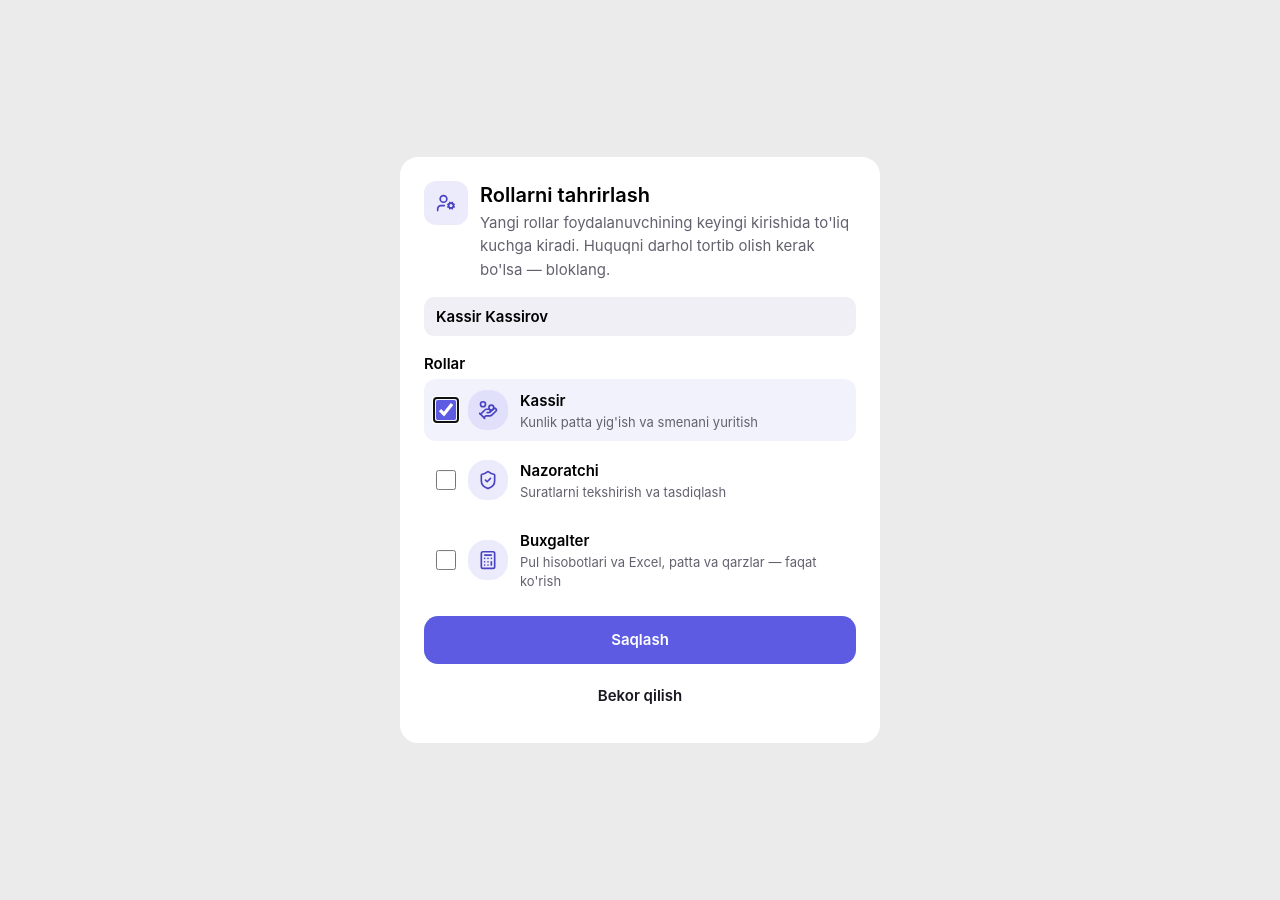
it: server rad etganda › `role_not_allowed` tarjima bilan ko'rsatiladi
Click the checkbox labelled "Nazoratchi": (446, 480) [436, 470, 456, 490]
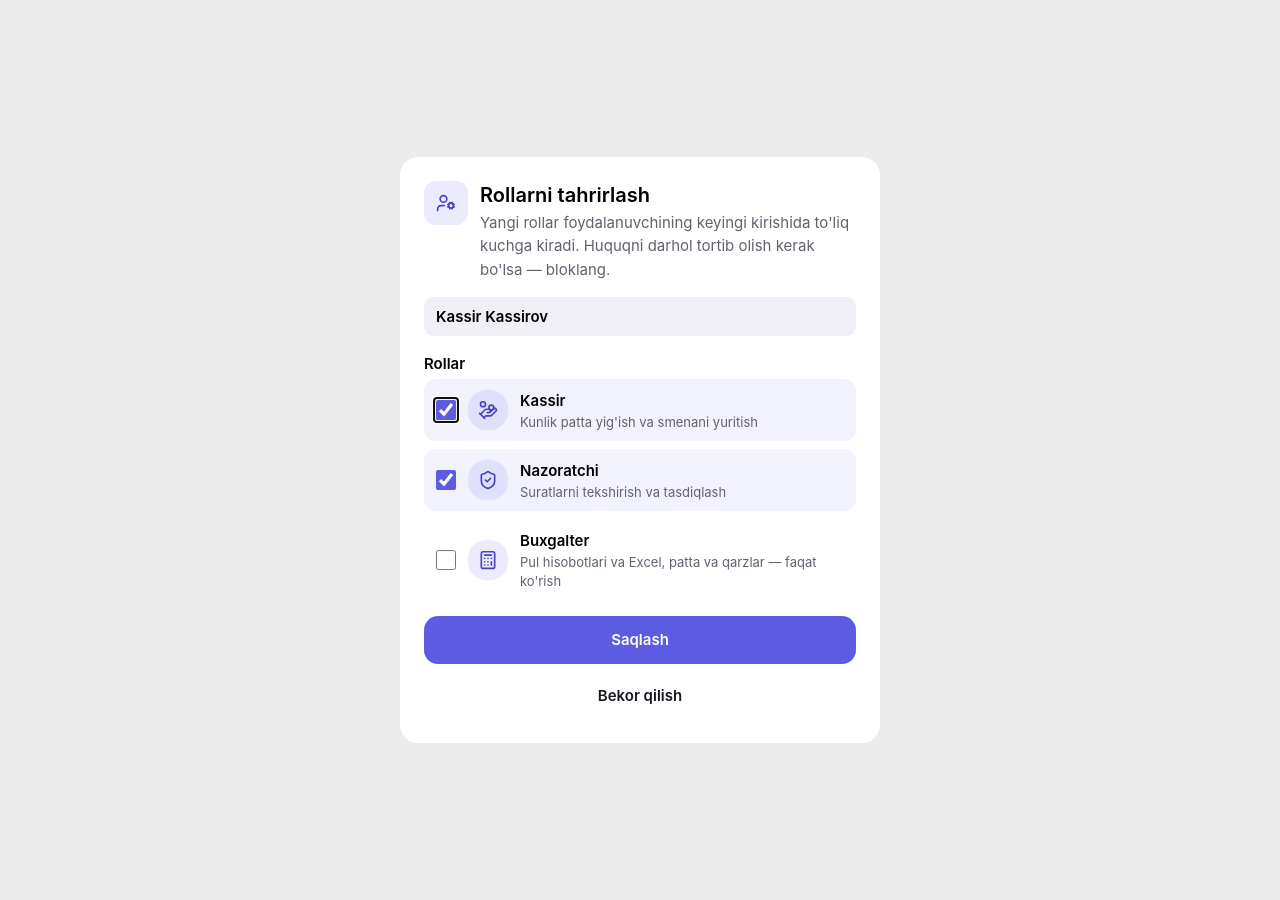
Click the button "Saqlash": (640, 640) [424, 616, 856, 664]
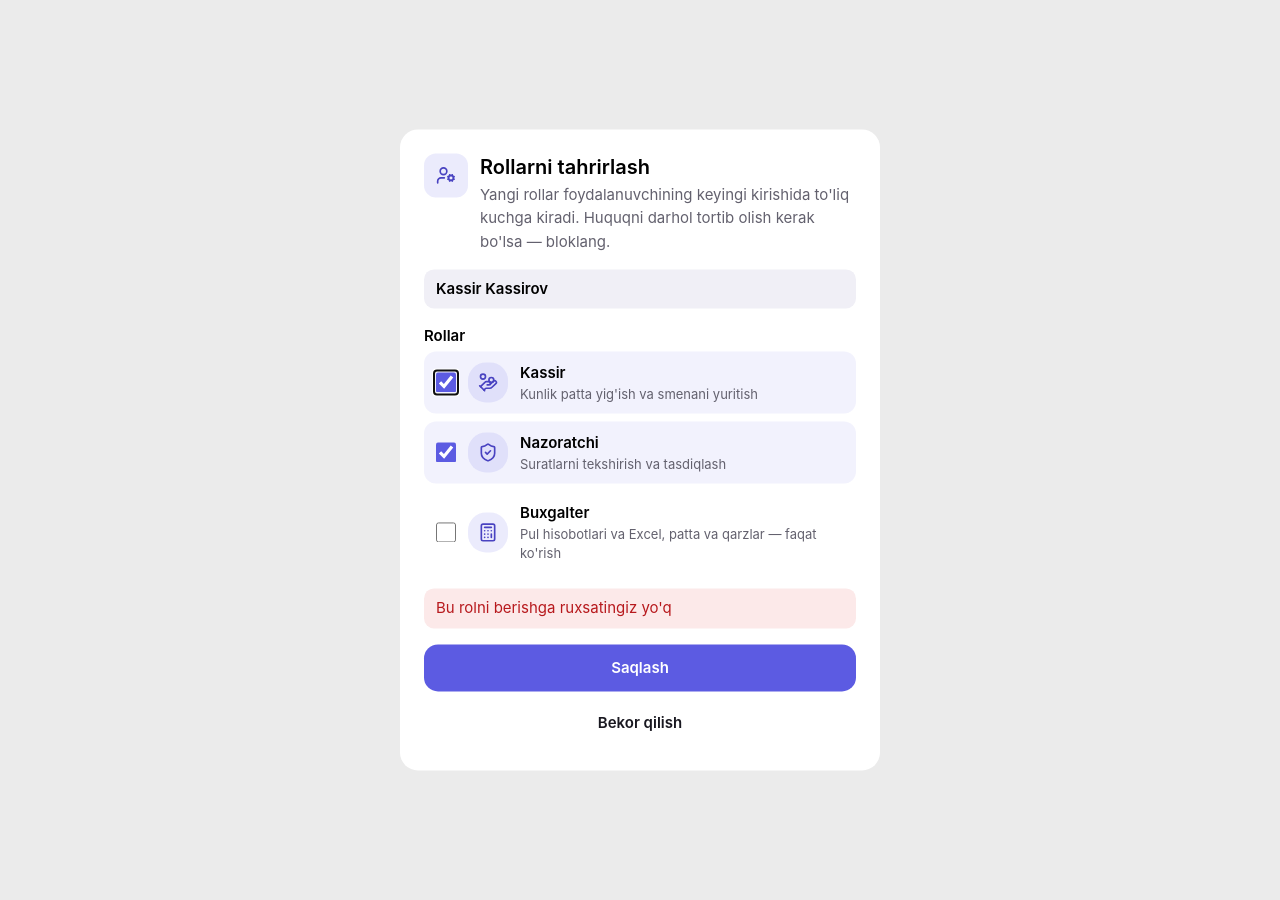
Expected: the text "Bu rolni berishga ruxsatingiz yo'q" is shown, [424, 589, 856, 628]
